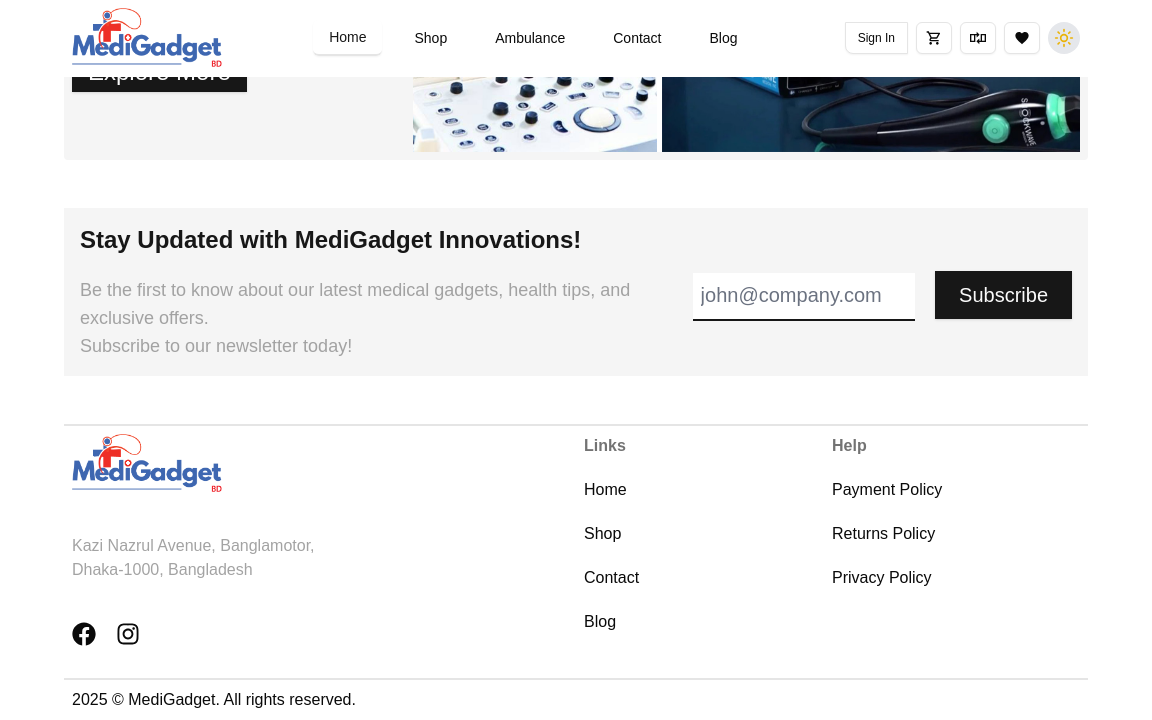
it: Newsletter Subscription › should subscribe a user to the newsletter
(page scrolled)
// Enter email and submit the form
Type "john.doe@example.com" into the field with placeholder "john@company.com" at [805, 297], box 693,273 -> 916,321
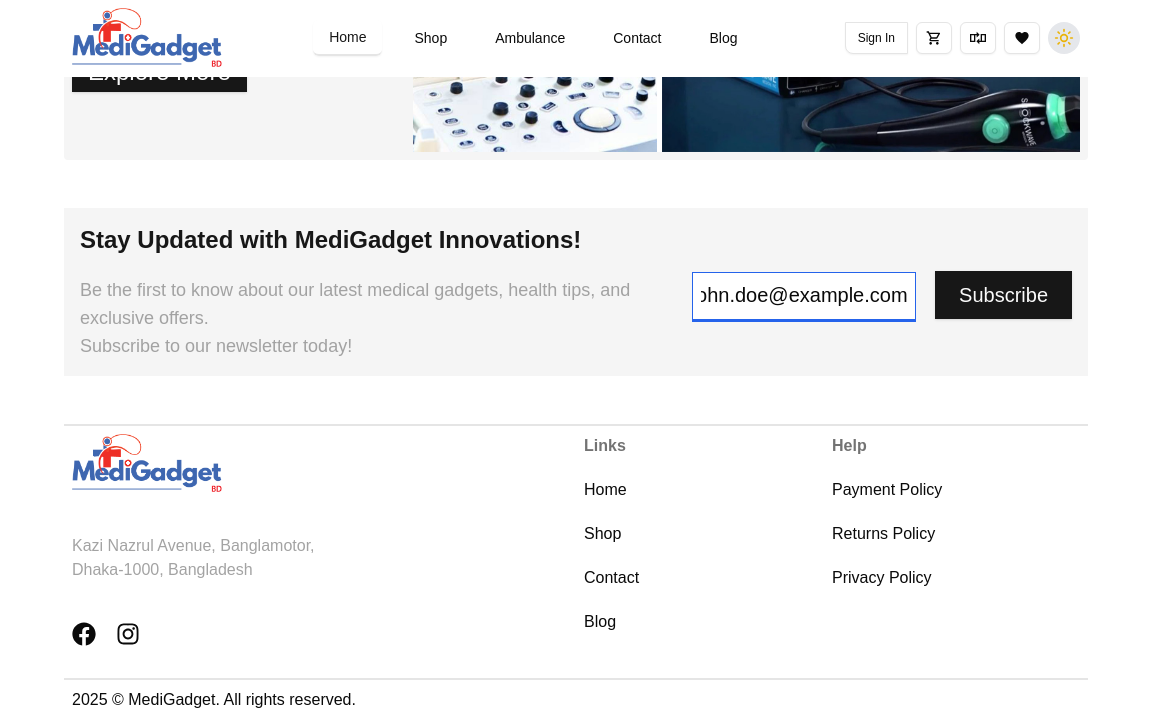
Click the submit button at [1004, 295], box 935,271 -> 1072,319
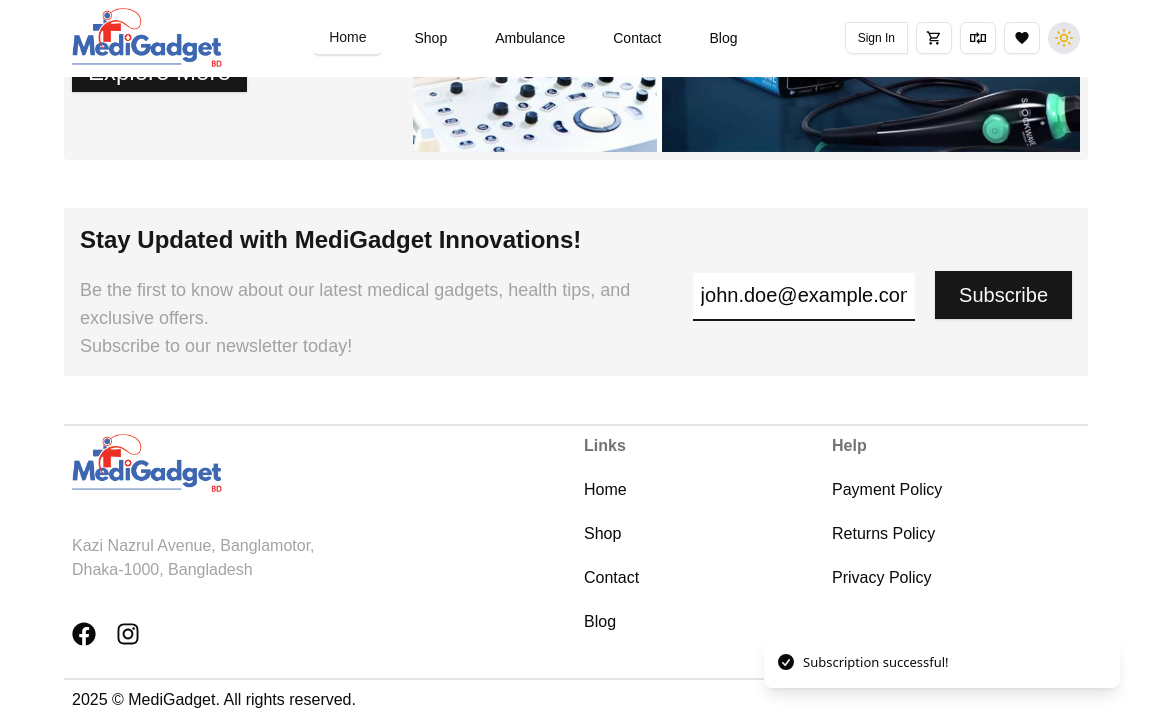
Result: the text "Subscription successful!" is shown at 803,652 -> 949,672
